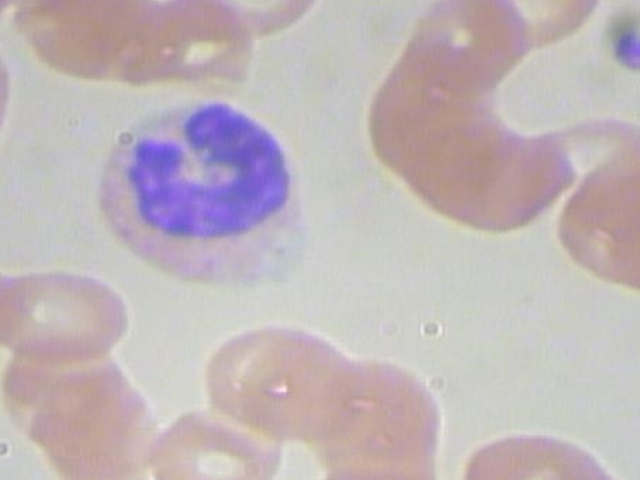Platelets: (599, 31, 640, 77)
RBC: (0, 261, 129, 366), (138, 402, 287, 480), (467, 0, 615, 49), (184, 0, 328, 38)
WBC: (73, 84, 324, 311)
